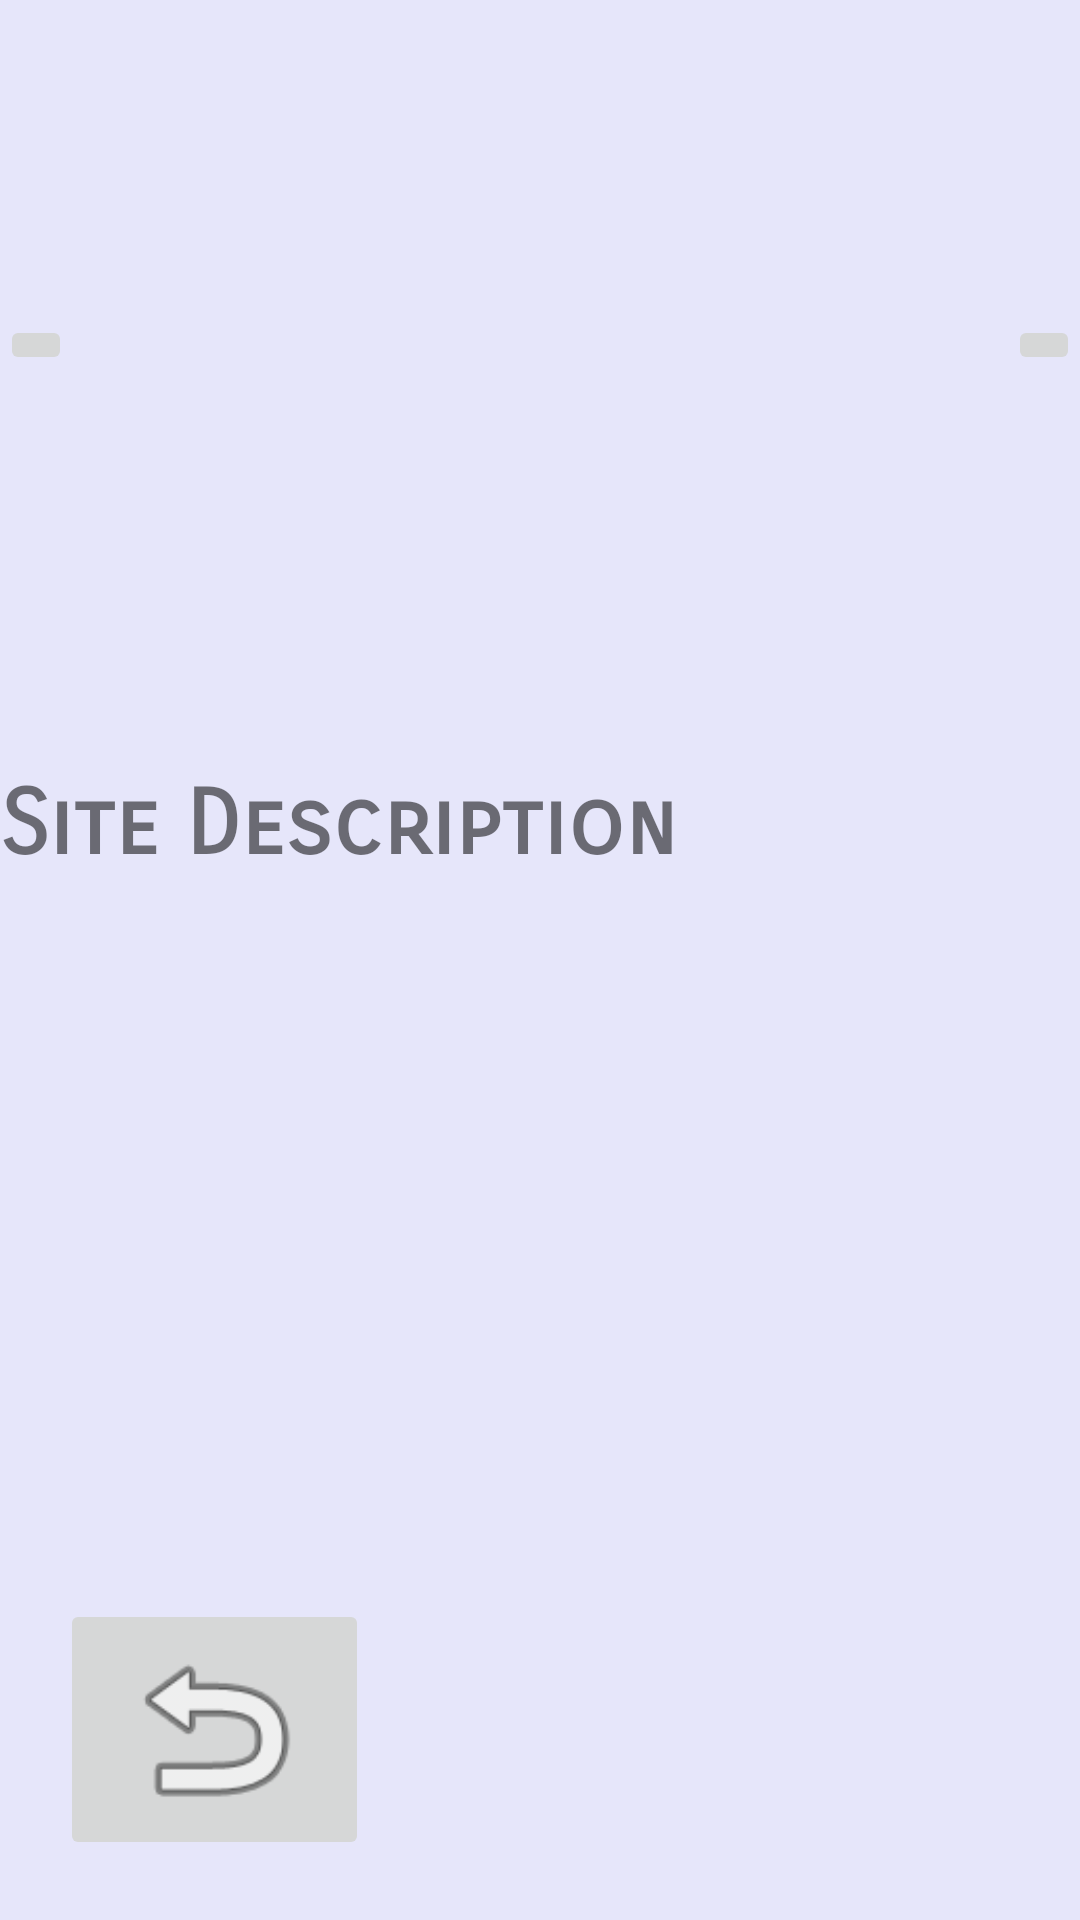

Screen size 1080w x 1920h. Icon name, then its box in pixels as detection(x1, y1, x2, y2):
revert: detection(72, 1617, 357, 1842)
